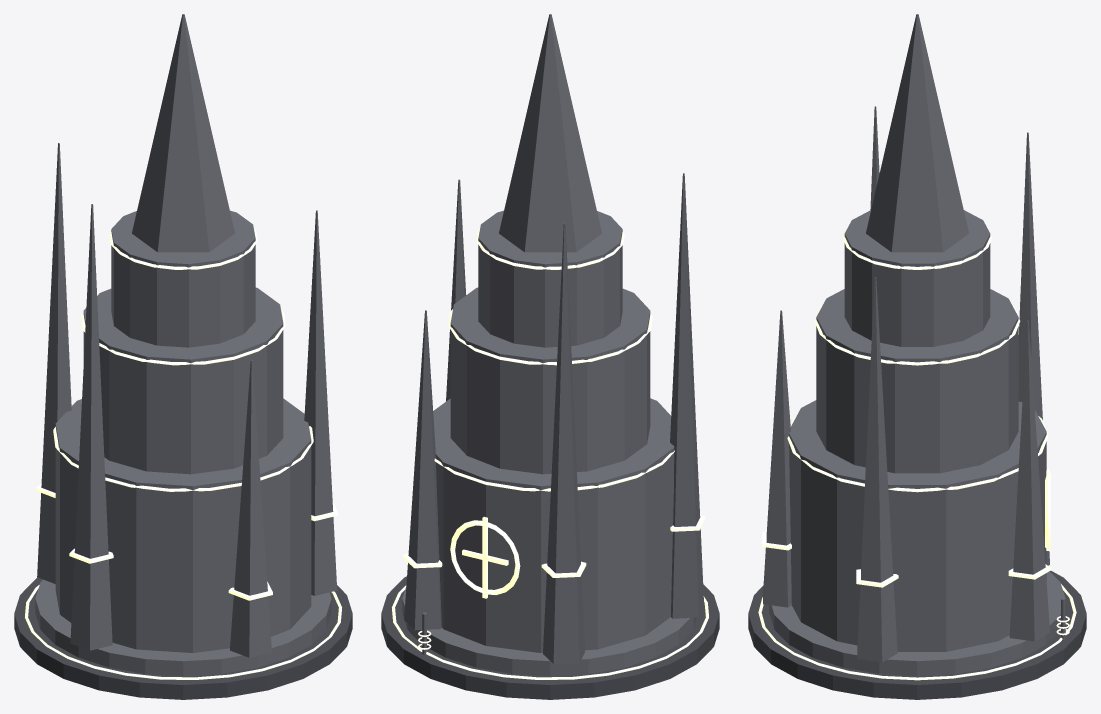
The model's file is zone_high_3_t3.glb.
3 views of the same model, side by side, from view 1: azimuth 30°, elevation 25°; view 2: azimuth 150°, elevation 25°; view 3: azimuth 270°, elevation 25° (orthographic).
Parts seen in each view (by area): view 1: zone_high_3_t3; view 2: zone_high_3_t3; view 3: zone_high_3_t3.
Part boxes in pixels (bbox=[...]): zone_high_3_t3: bbox=[14, 14, 352, 699]; zone_high_3_t3: bbox=[381, 14, 719, 699]; zone_high_3_t3: bbox=[748, 14, 1086, 699].
Size of the model in its own units: 28.8 by 57.65 by 28.8.
